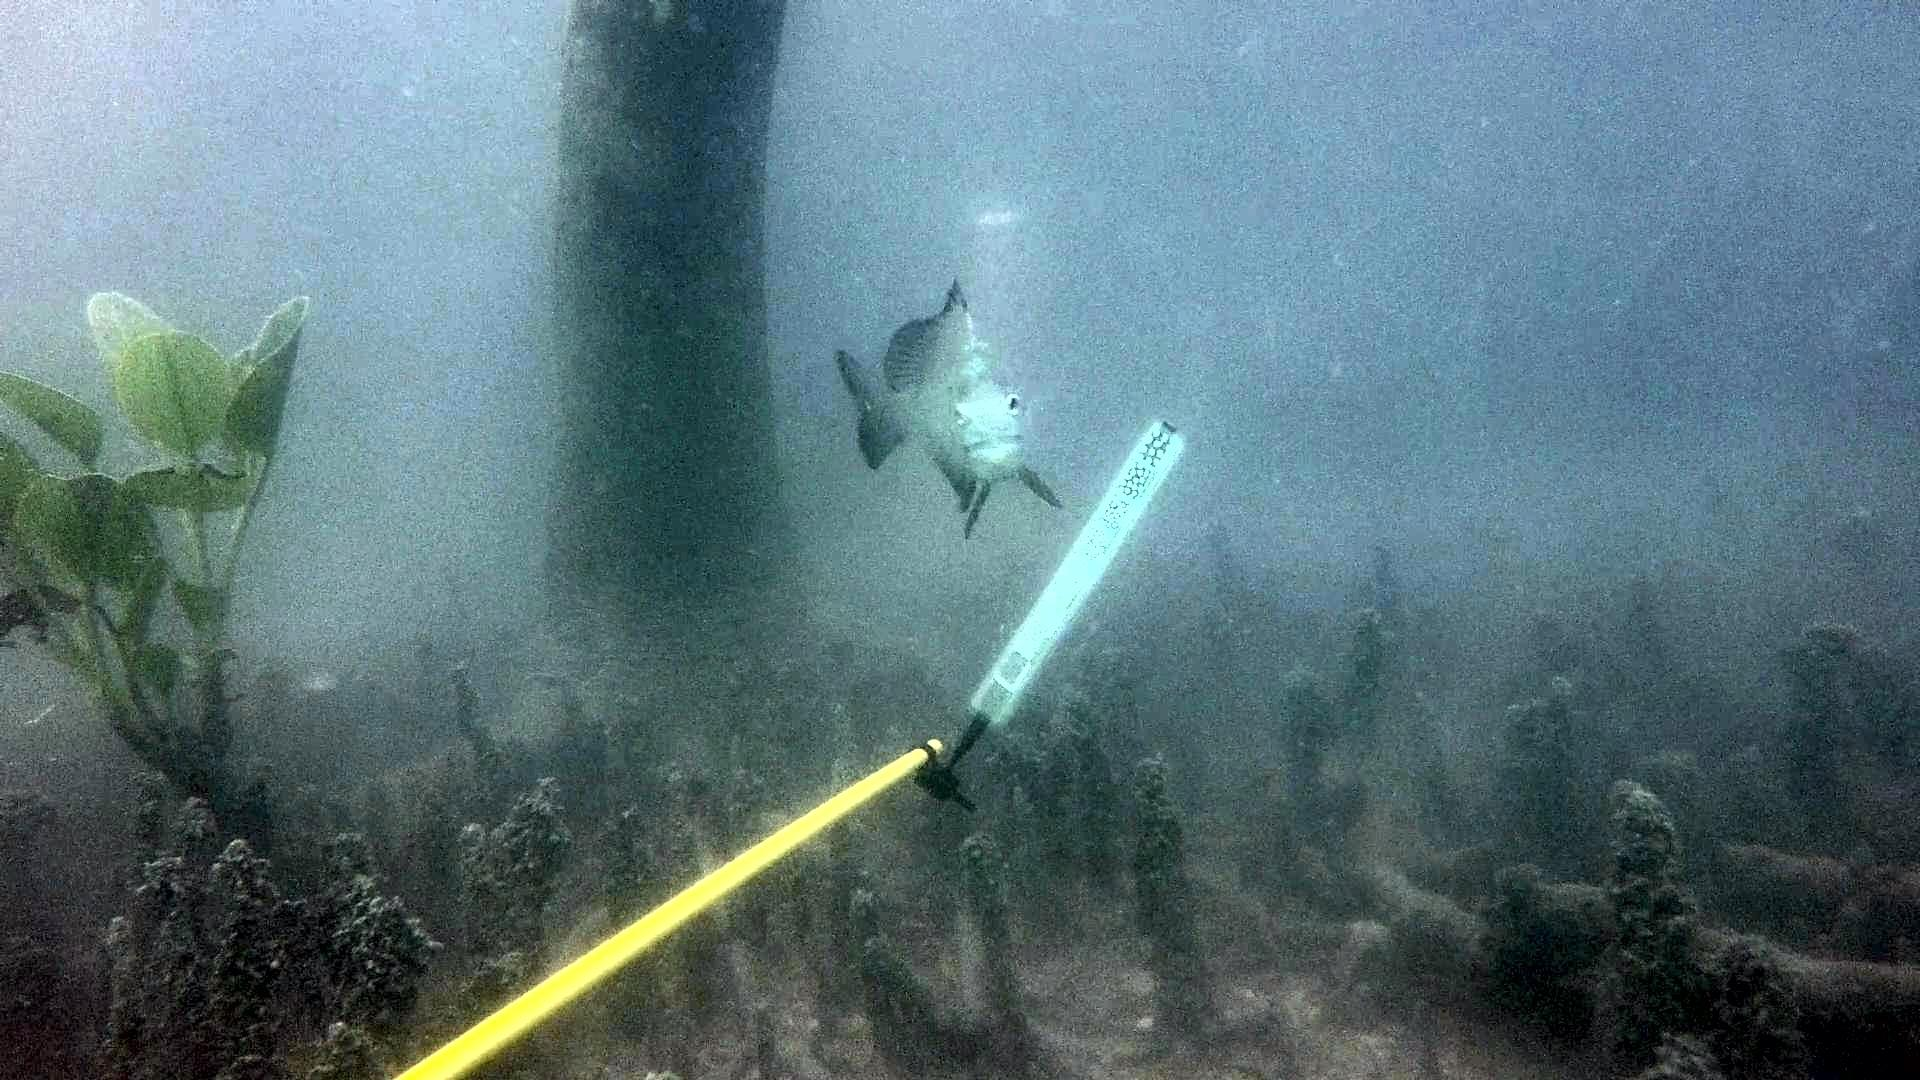acanthopagrus palmaris: (823, 268, 1072, 546)
